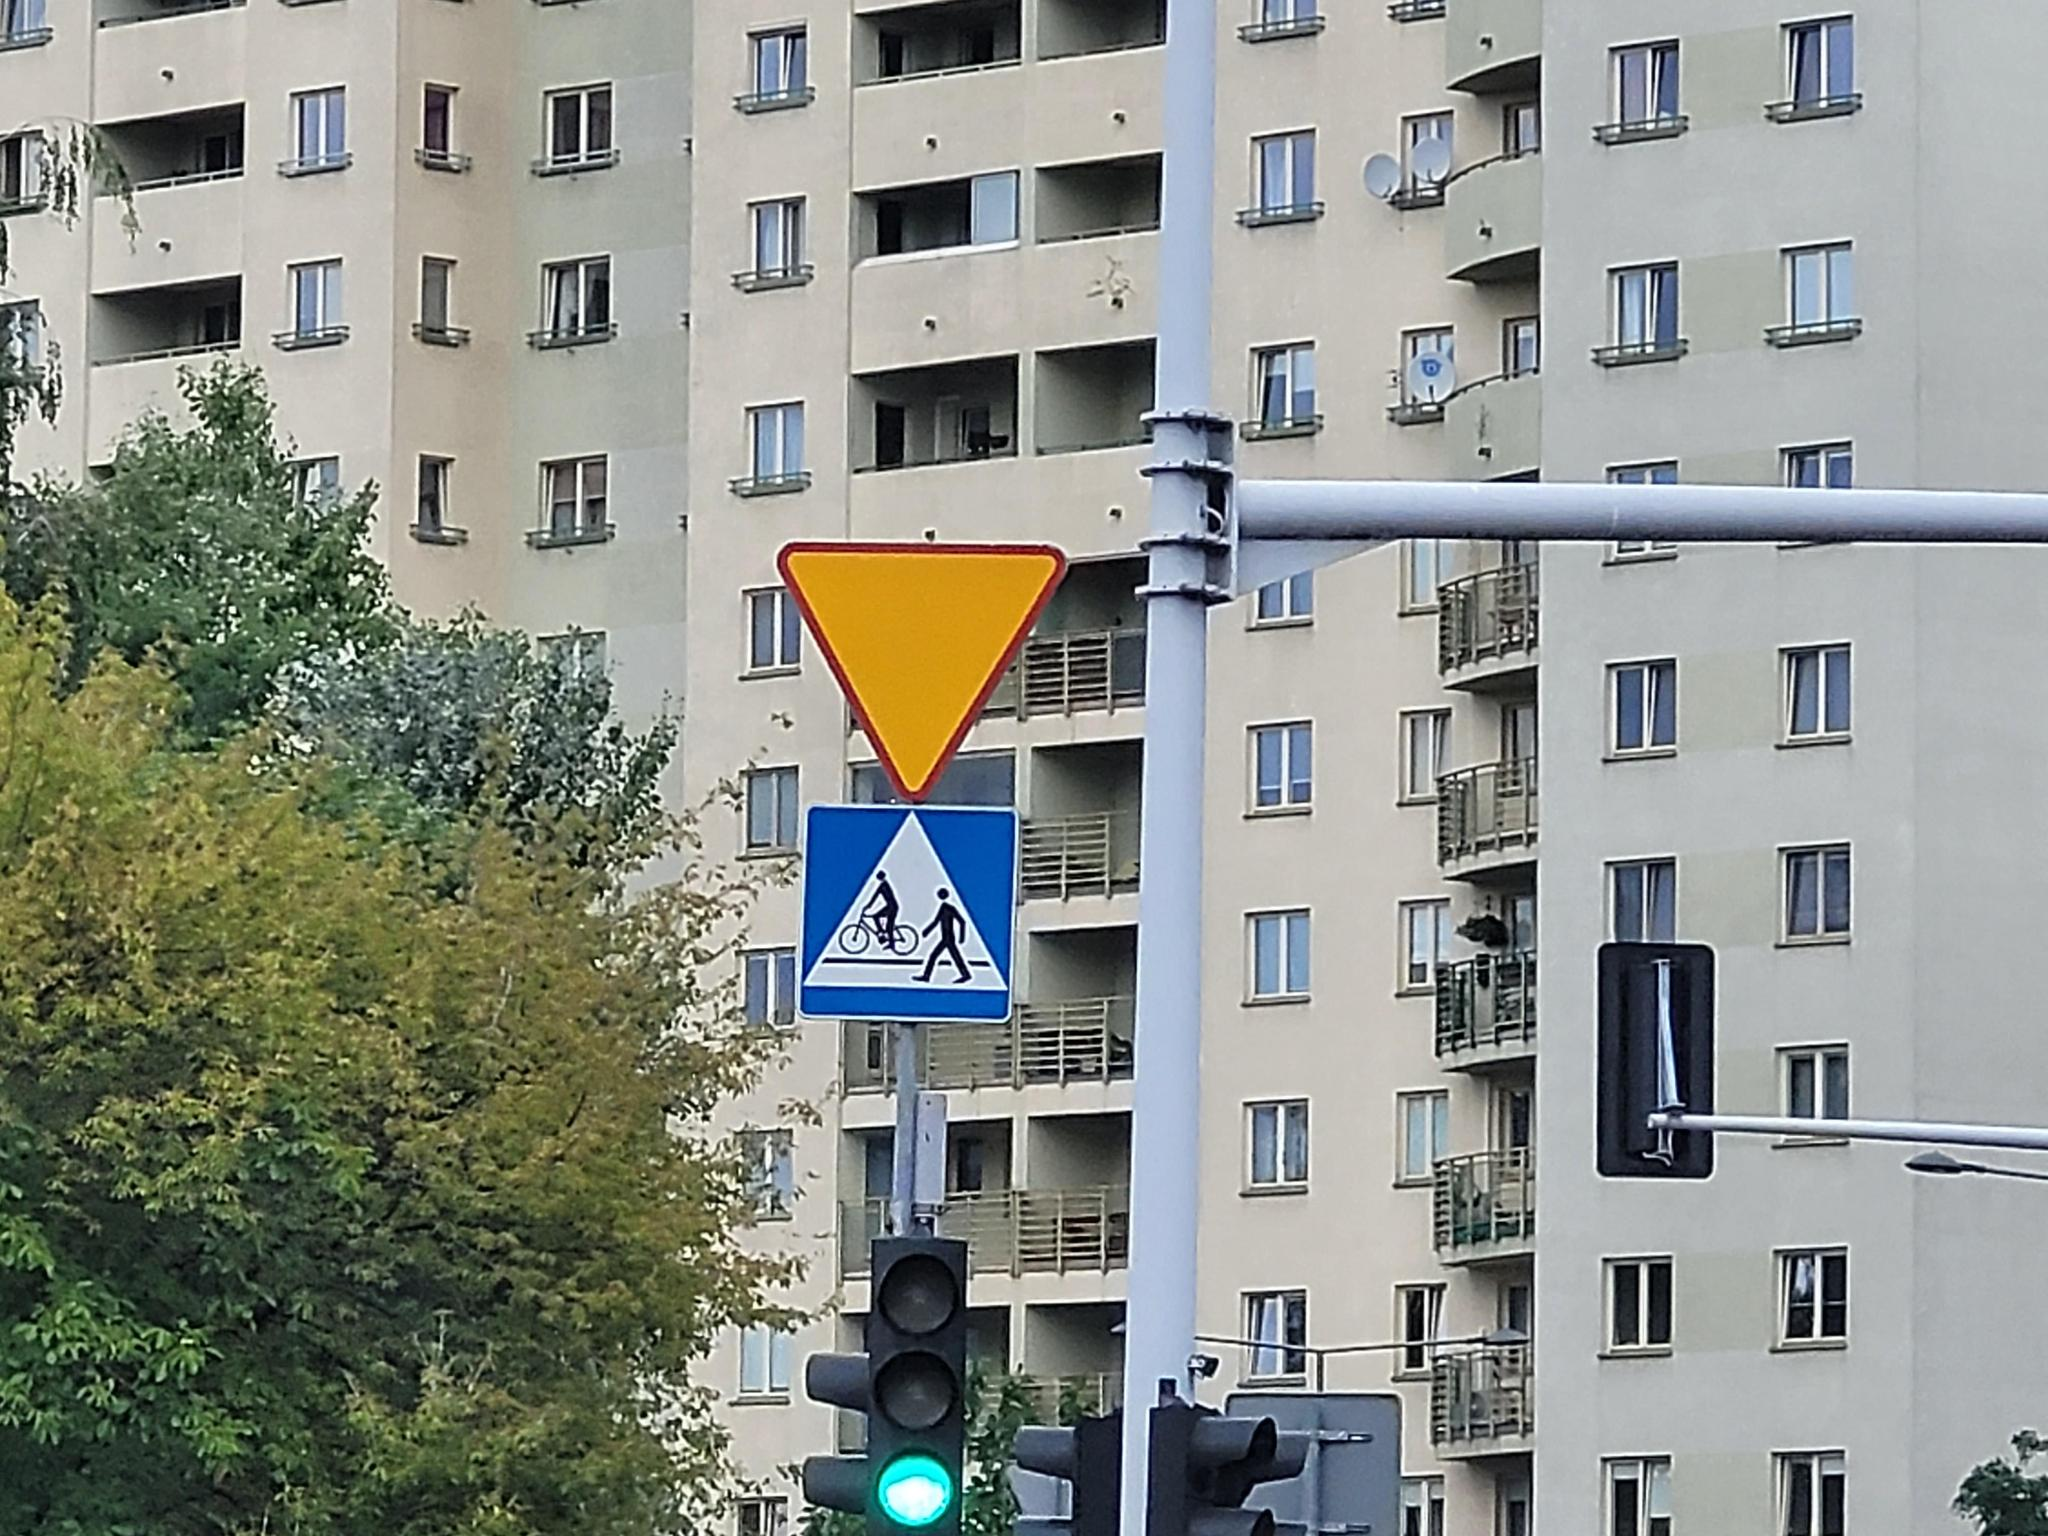information: (805, 805, 1011, 1020)
warning: (776, 539, 1071, 805)
